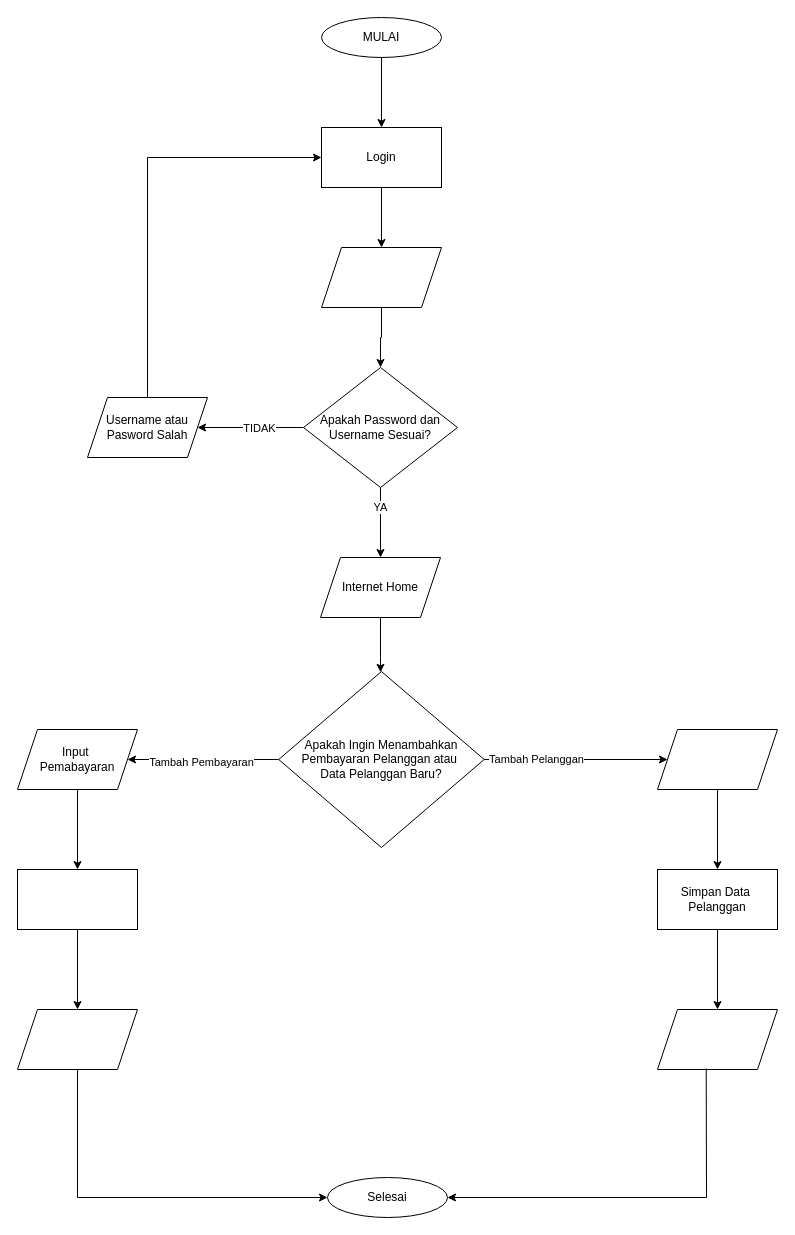
The diagram is 795 pixels wide and 1235 high, and some of its shapes have lost their labels. The shapes that lost their labels are listed below. From the top down, each one's centre as x and y in pixels, then its label:
the point at 381,277: Menginputkan Username dan Password
the point at 717,759: Input Pelanggan
the point at 77,899: Simpan Data Pembayaran
the point at 77,1039: Berhasil Tambah Pembayaran
the point at 717,1039: Berhasil Tambah Pelanggan
